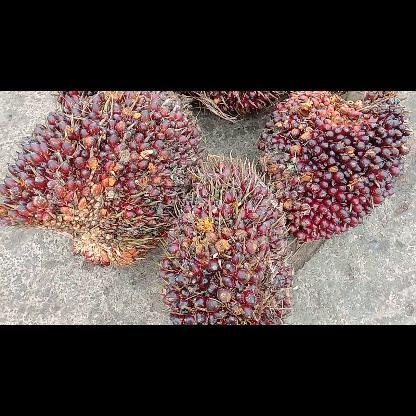Kurang masak: (0, 91, 206, 271), (254, 91, 413, 245), (159, 156, 297, 324)
